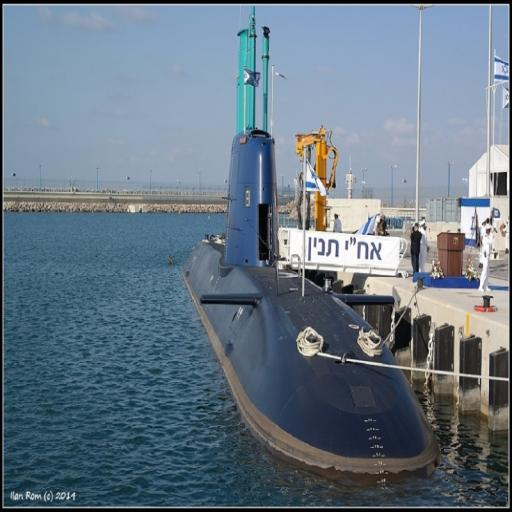submarine: (181, 130, 452, 480)
